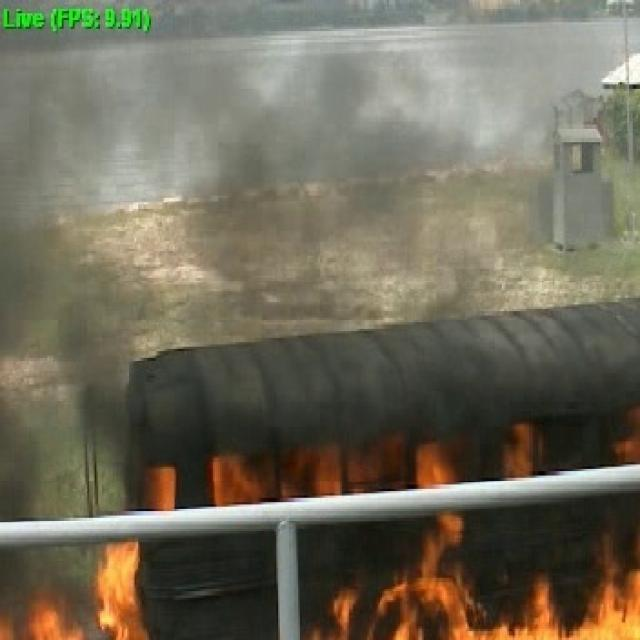Fire: (45, 450, 640, 640)
Smoke: (3, 5, 393, 342)
